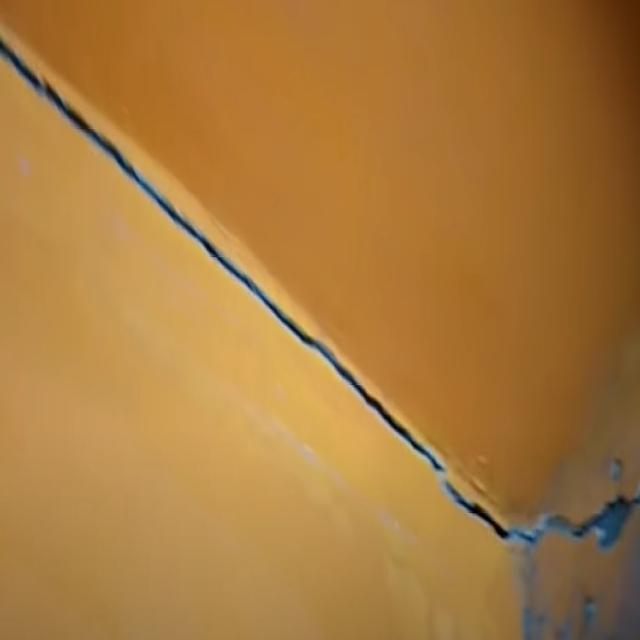Wall_Cracks: (0, 15, 640, 629)
